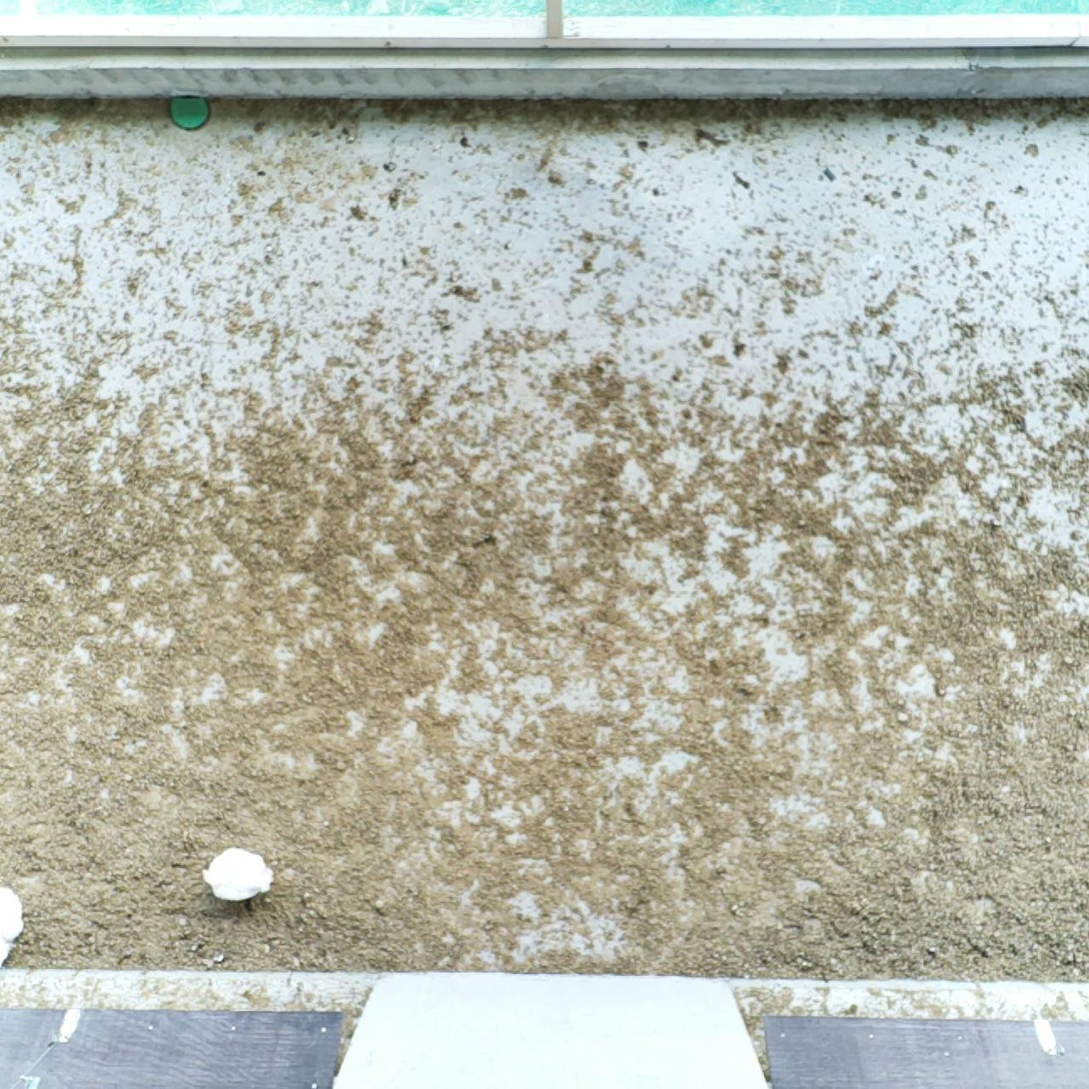chicken: (196, 841, 279, 905), (0, 881, 31, 970)
